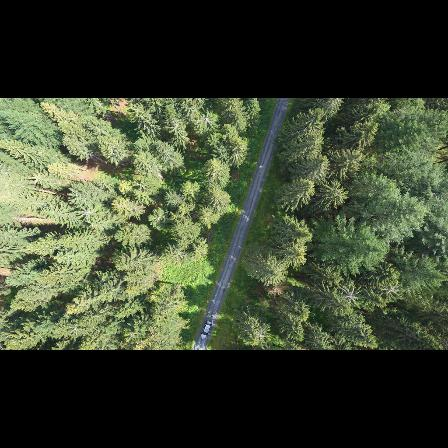Sick: (377, 278, 402, 302), (340, 283, 361, 309), (76, 202, 99, 224), (197, 108, 216, 133), (167, 115, 186, 136)
